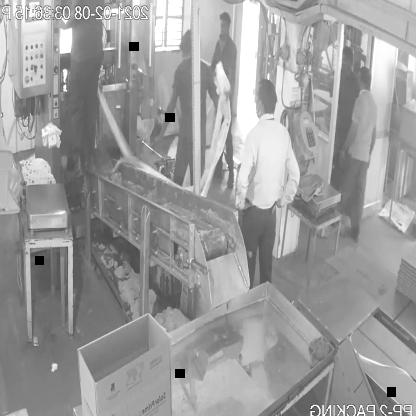no_glove: (232, 132, 264, 222), (274, 148, 307, 212), (156, 73, 183, 145), (54, 0, 83, 42), (341, 110, 361, 167)
